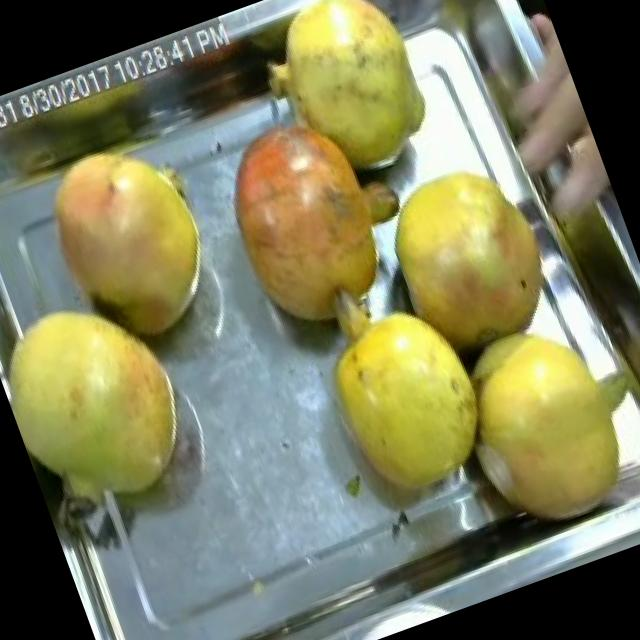fruit: (186, 77, 446, 370), (280, 265, 529, 546), (11, 104, 262, 382), (0, 255, 227, 541), (351, 124, 588, 386), (230, 0, 475, 213)
